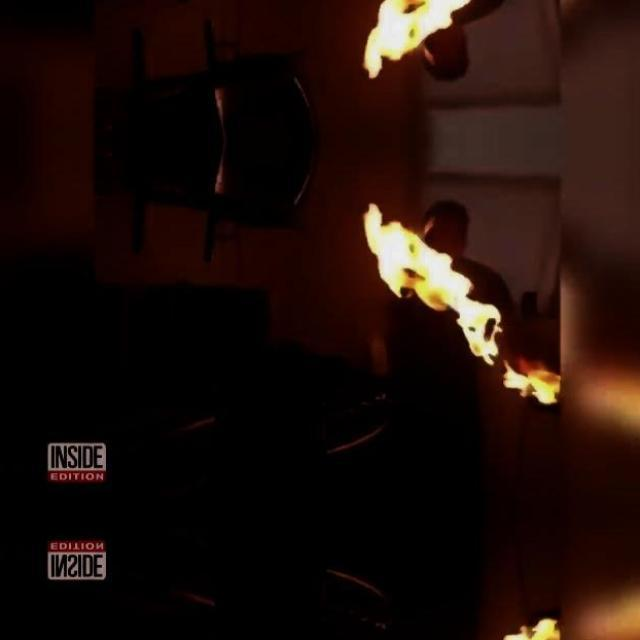smoke: (360, 198, 560, 407), (360, 0, 559, 83)
